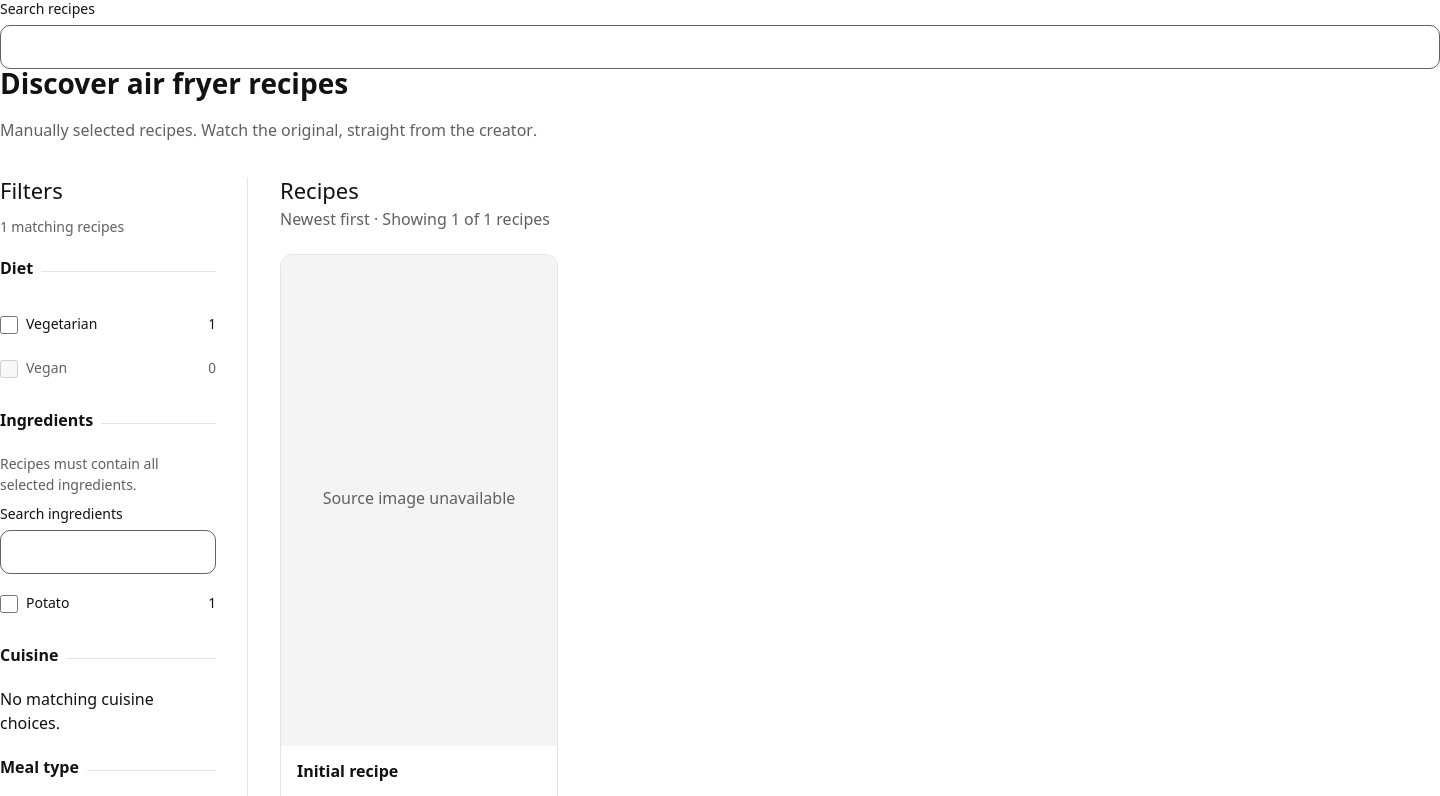
Scenario: cancels obsolete searches and never displays their late results
Type "old" into the search field labelled "Search recipes" at (720, 47), box [0,25,1439,69]
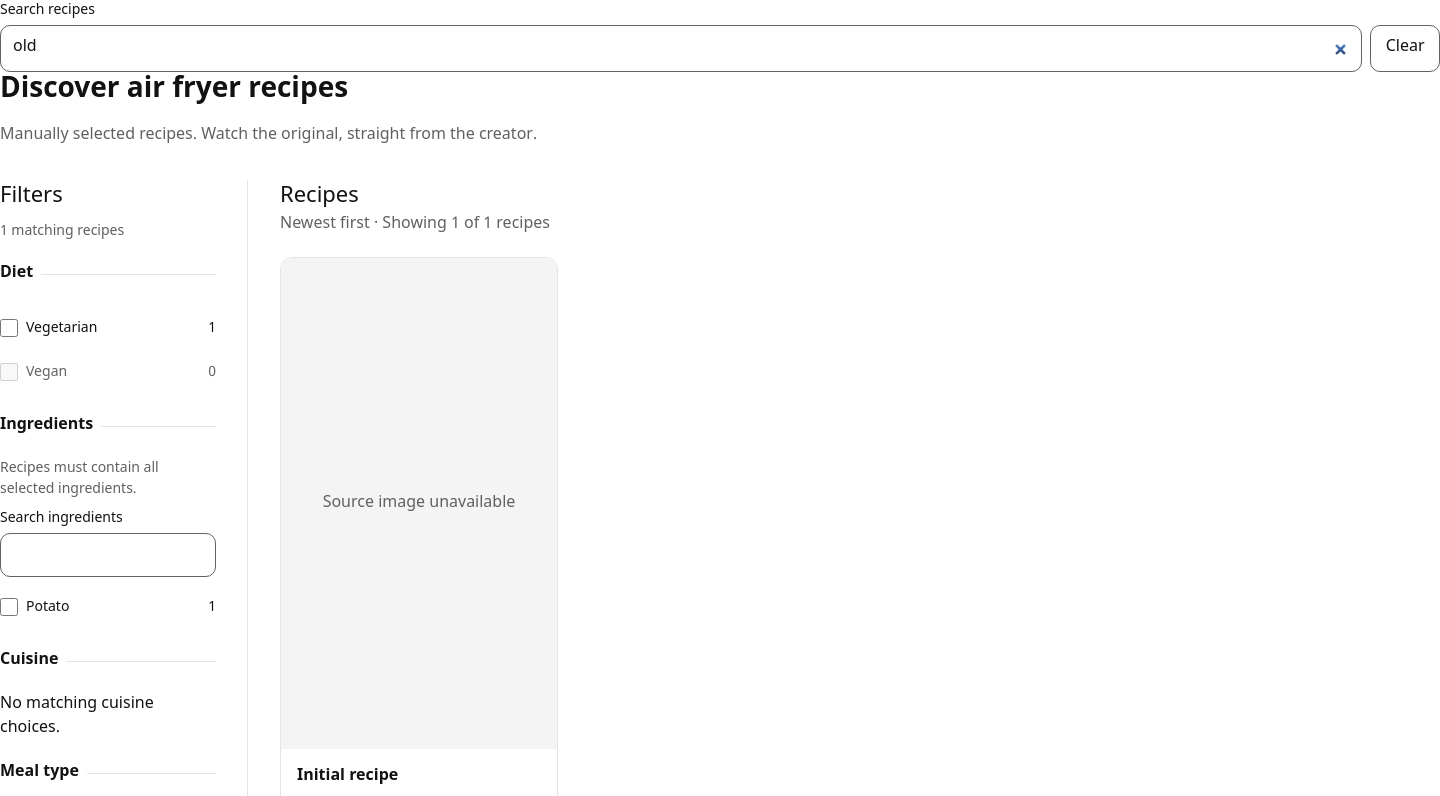
Submit the form "Search recipes", box [0,0,1439,72]
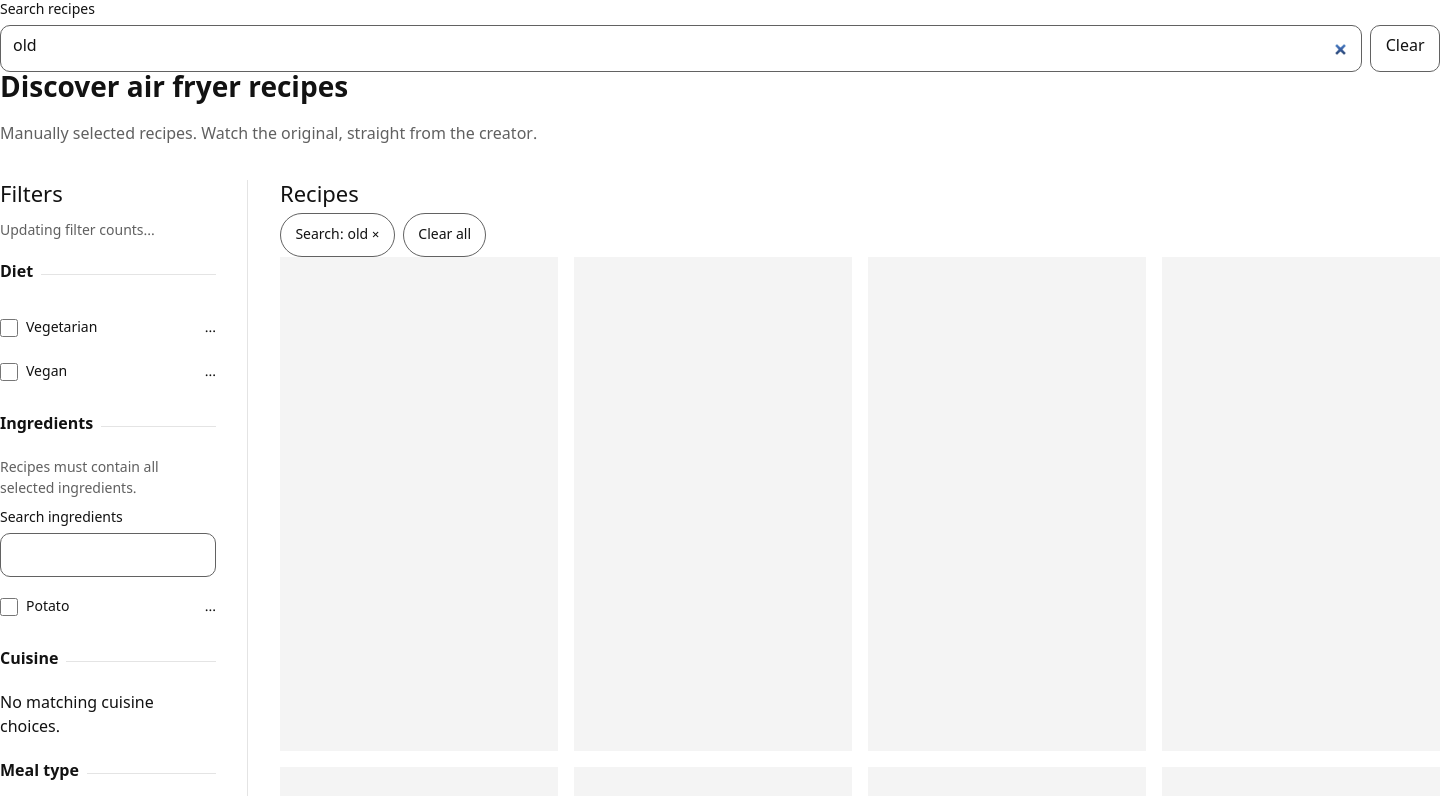
Replace the text in the search field labelled "Search recipes" with "latest" at (681, 48), box [0,25,1362,72]
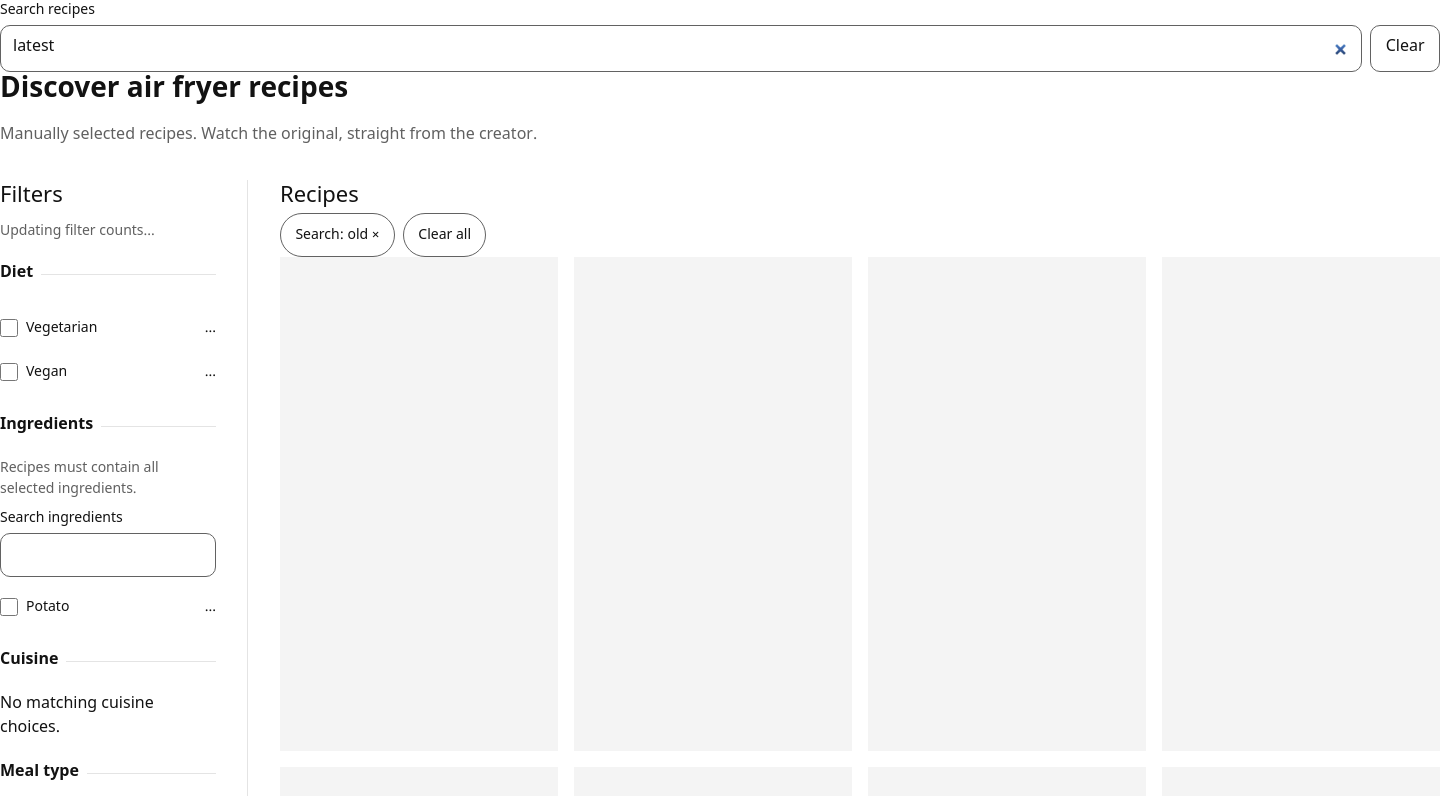
Submit the form "Search recipes", box [0,0,1439,72]
(page scrolled)
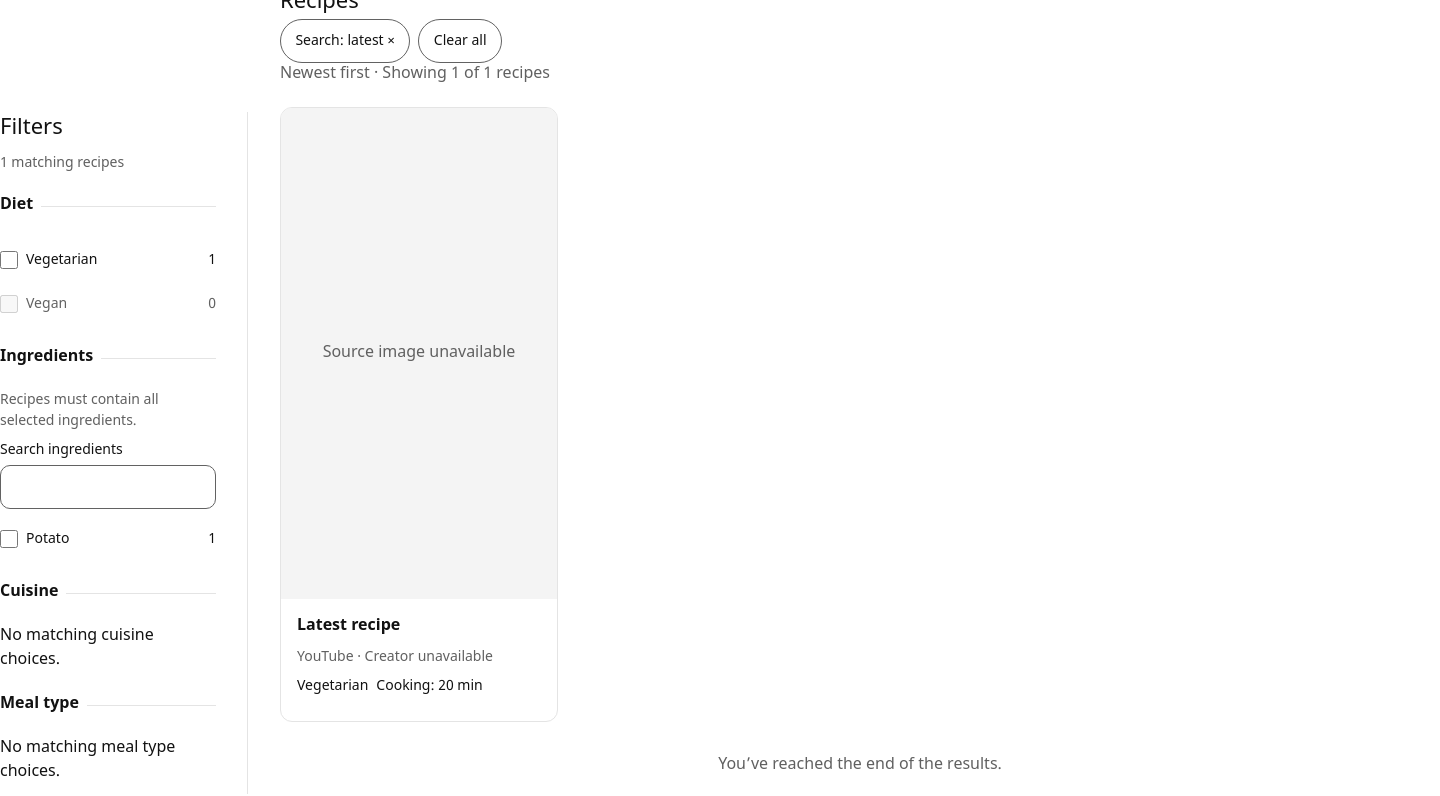
Expected: the link "Latest recipe" is shown, [280,107,558,722]
